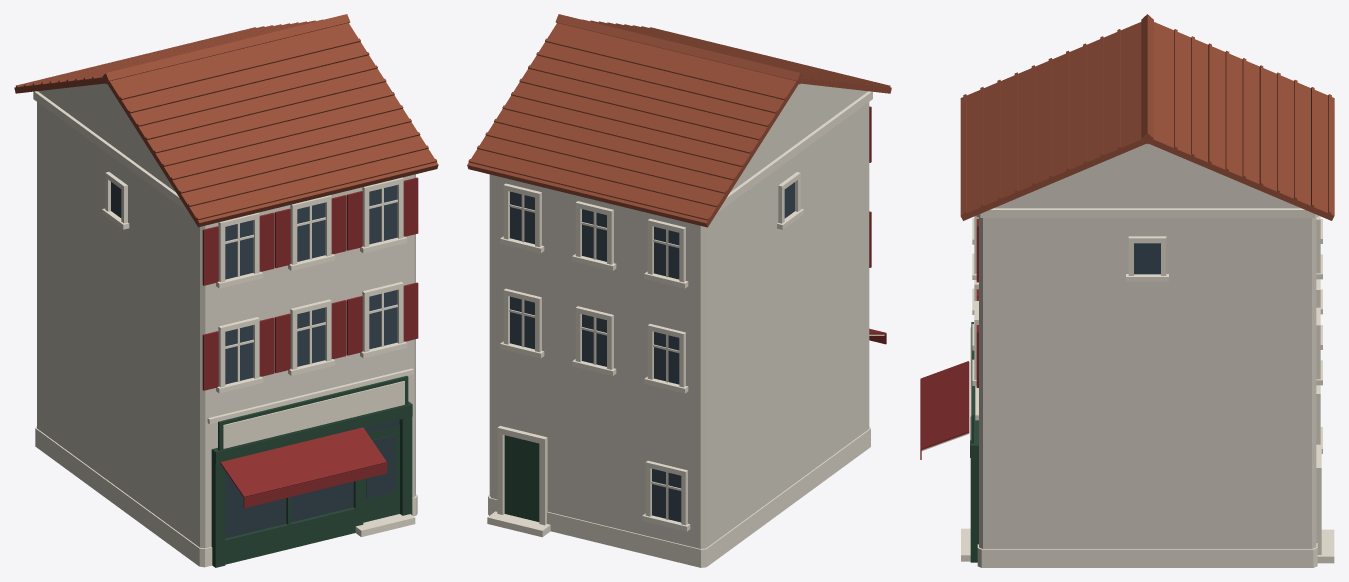
File: boutique-a.glb
The picture shows the model from 3 angles, left to right: view 1: azimuth 30°, elevation 25°; view 2: azimuth 150°, elevation 25°; view 3: azimuth 270°, elevation 25°; orthographic projection.
Parts seen in each view (by area): view 1: boutique-a; view 2: boutique-a; view 3: boutique-a.
Part boxes in pixels (x1,y1,x2,y2): boutique-a: (14,14,438,567); boutique-a: (467,14,891,567); boutique-a: (920,14,1334,567).
Bounding box in the file's own units: 6.26 × 10.81 × 9.21.
